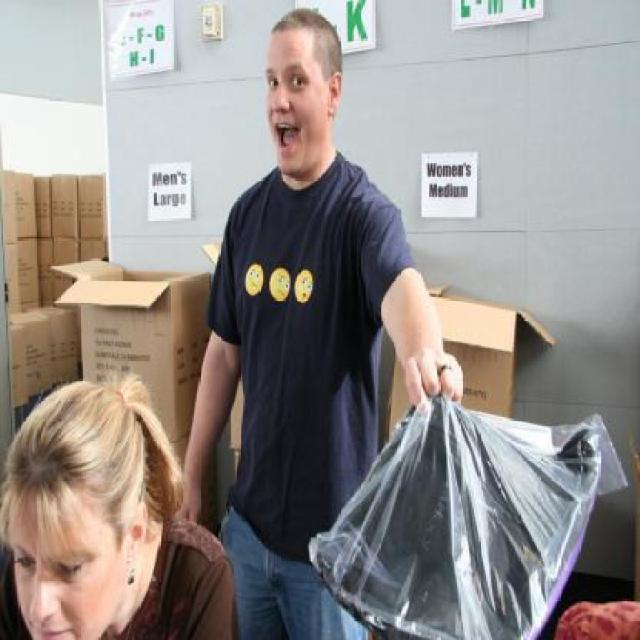plastic bag: (306, 383, 629, 639)
